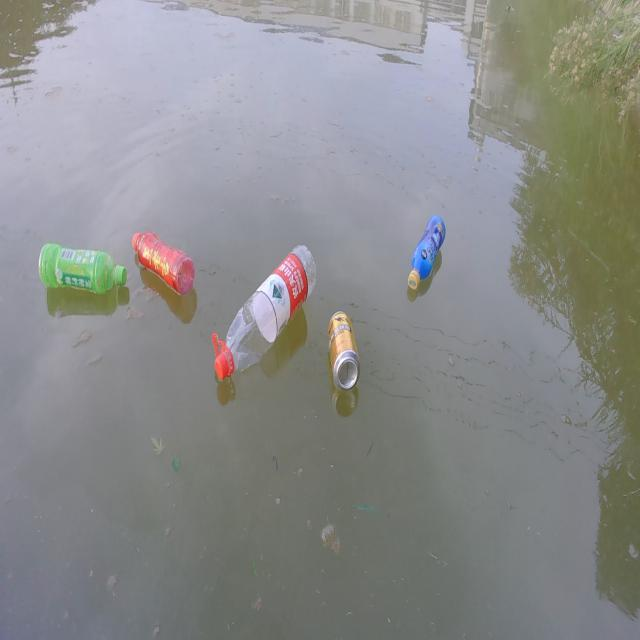bottle: (204, 224, 330, 395), (120, 211, 210, 312), (27, 231, 142, 305), (399, 202, 455, 294)
